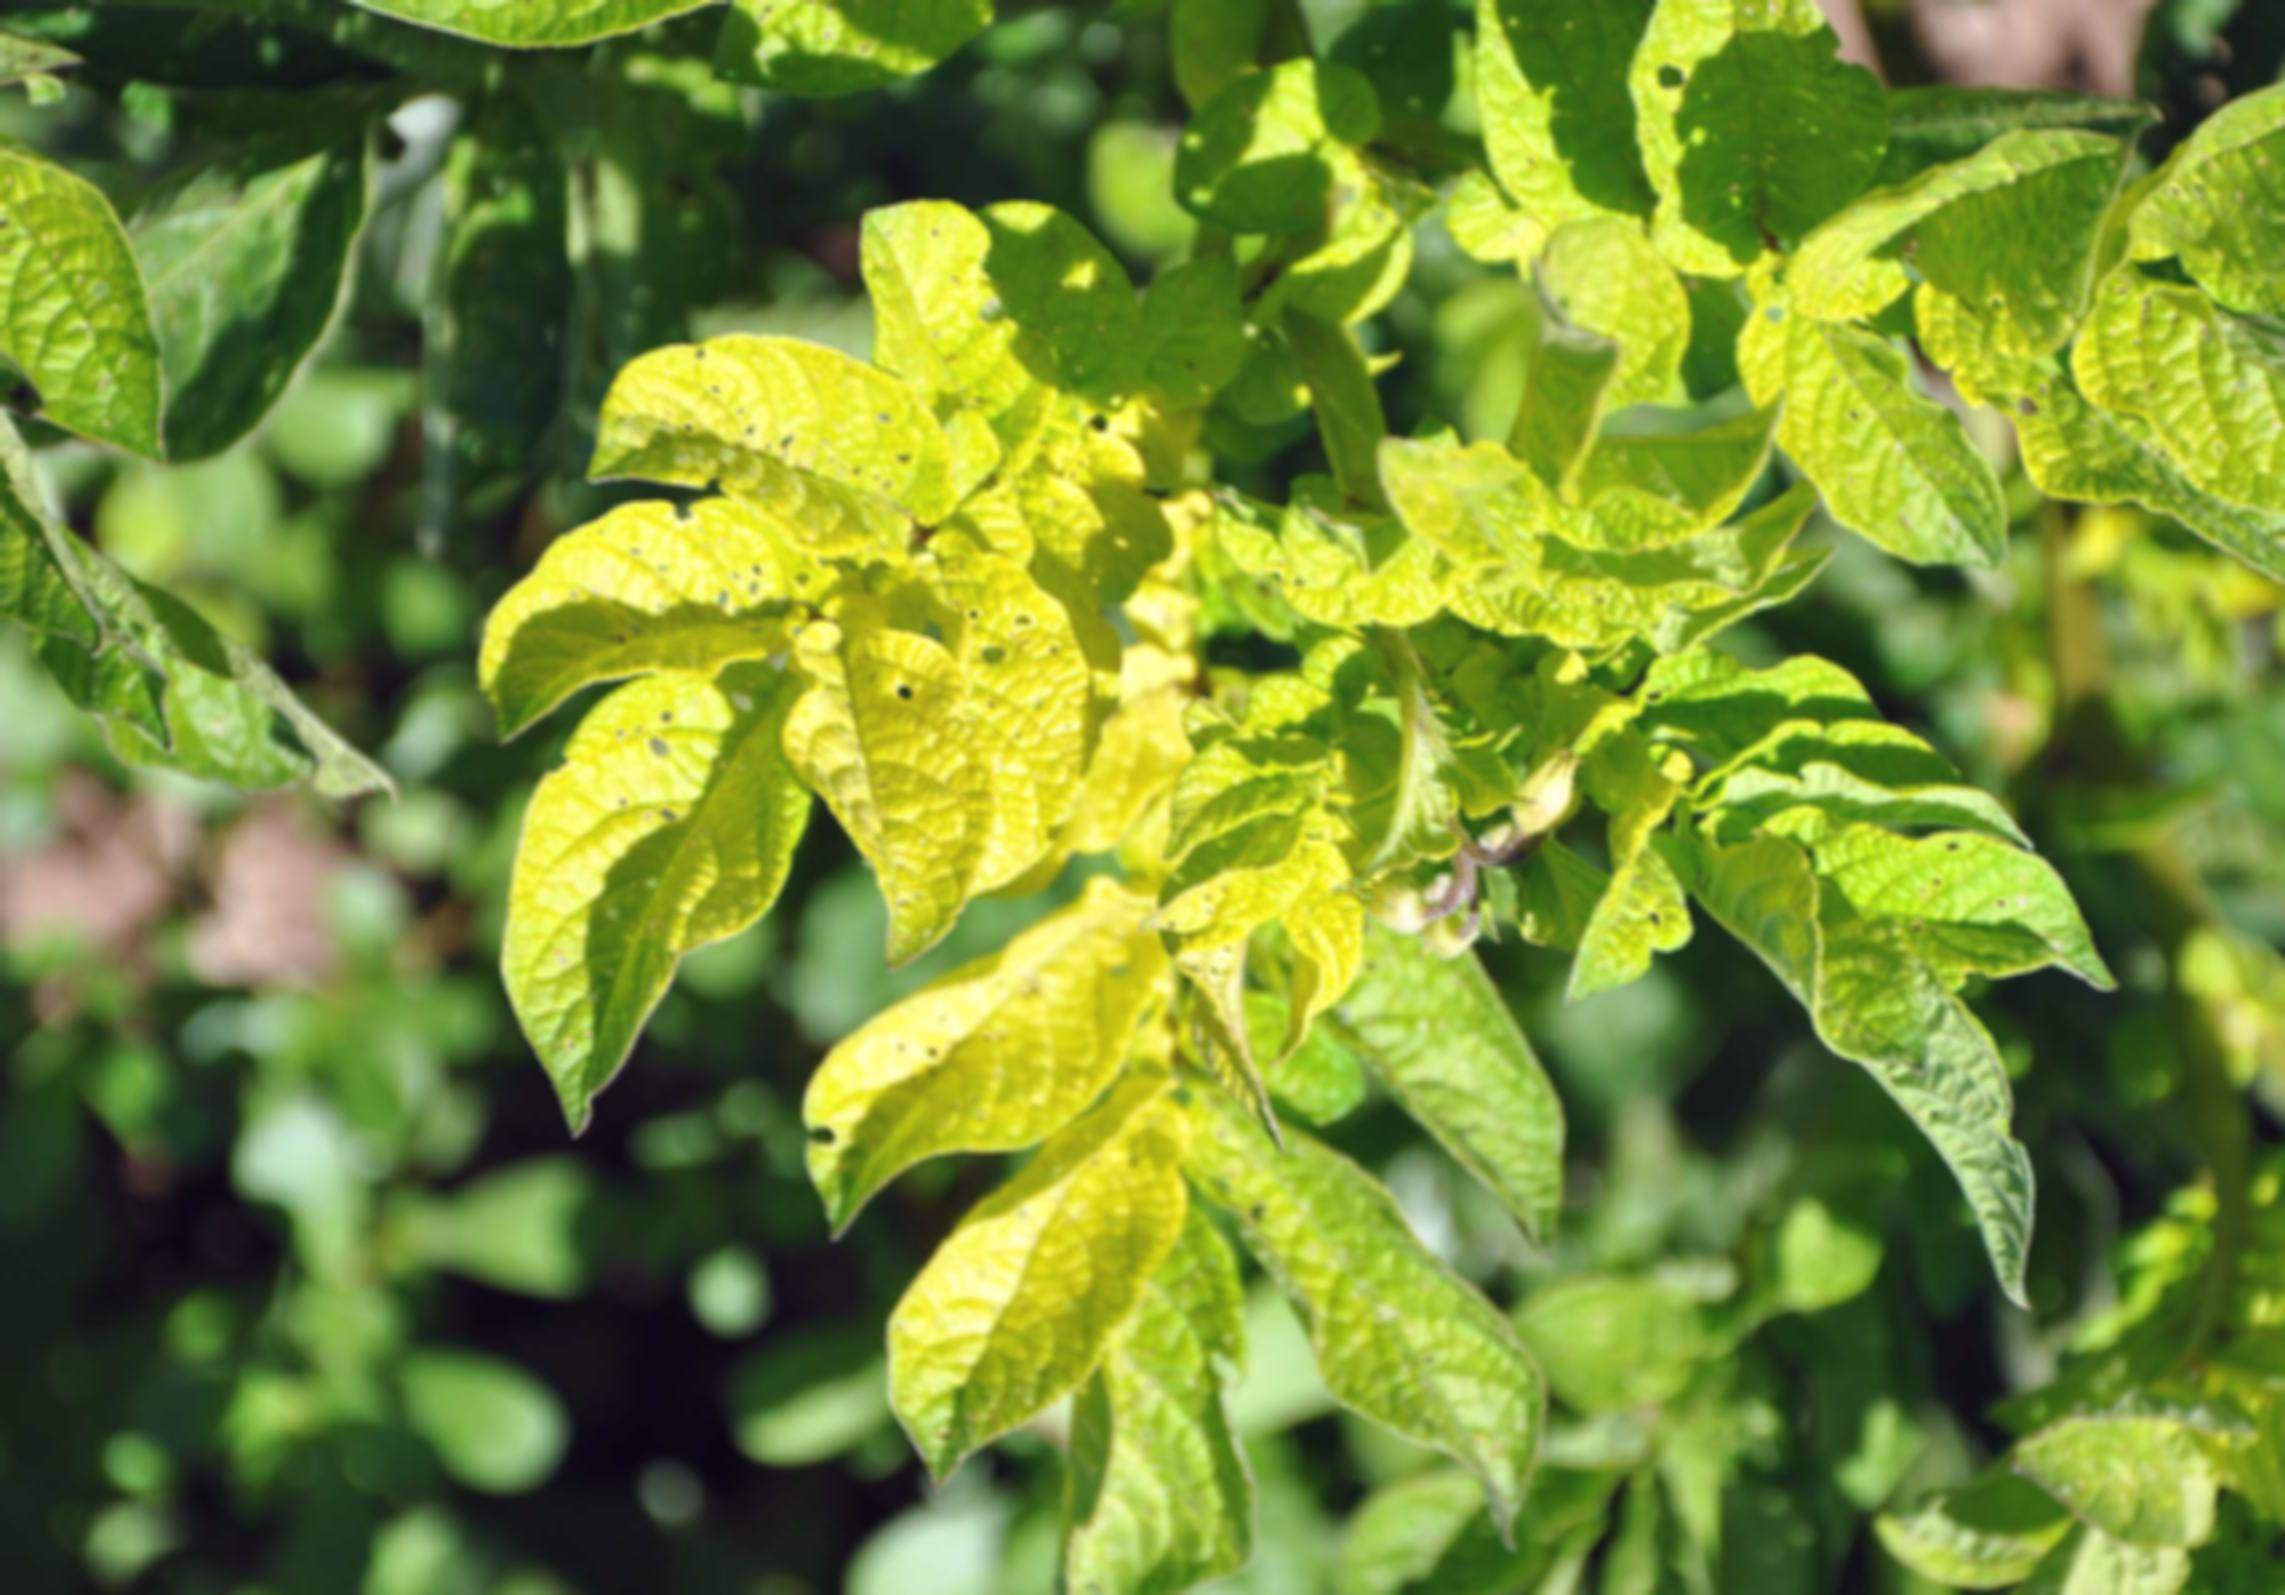Tomato leaf yellow virus: (425, 699, 833, 1114), (1228, 1130, 1590, 1559), (1696, 160, 2025, 633), (1366, 354, 1846, 675), (870, 1085, 1221, 1486), (780, 852, 1156, 1218), (1735, 764, 2136, 1036), (797, 573, 1007, 994), (0, 66, 193, 510), (2037, 238, 2285, 542)
